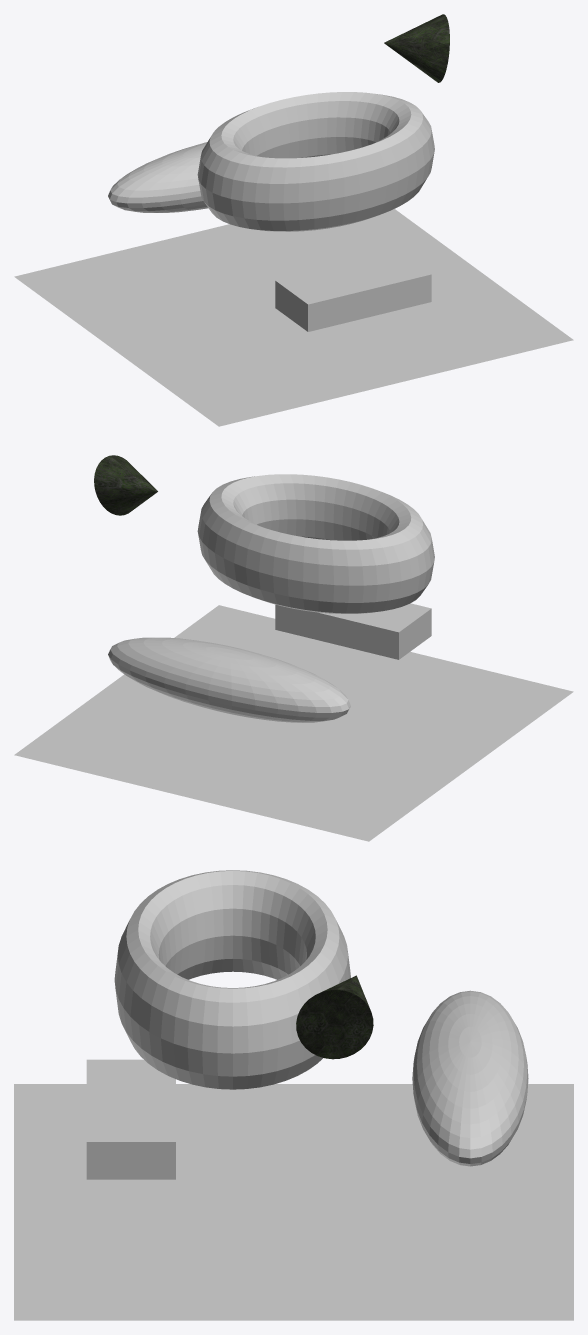
File: rtdlgi.fbx
3 renders of one model, top to bottom at view 1: azimuth 30°, elevation 25°; view 2: azimuth 150°, elevation 25°; view 3: azimuth 270°, elevation 25°, orthographic. The views are drawn at different scales.
Visible parts, largest first — view 1: Plane, Torus, Cube, Sphere, Cone; view 2: Plane, Torus, Sphere, Cube, Cone; view 3: Plane, Torus, Sphere, Cube, Cone.
Part boxes in pixels (x1=…): Plane: x1=14, y1=209, x2=573, y2=426; Torus: x1=197, y1=92, x2=434, y2=231; Cube: x1=275, y1=250, x2=431, y2=331; Sphere: x1=108, y1=142, x2=207, y2=212; Cone: x1=384, y1=14, x2=449, y2=82; Plane: x1=14, y1=605, x2=573, y2=841; Torus: x1=197, y1=474, x2=434, y2=613; Sphere: x1=108, y1=637, x2=350, y2=722; Cube: x1=275, y1=603, x2=431, y2=659; Cone: x1=94, y1=455, x2=157, y2=515; Plane: x1=14, y1=1084, x2=573, y2=1320; Torus: x1=114, y1=870, x2=350, y2=1089; Sphere: x1=412, y1=990, x2=528, y2=1166; Cube: x1=86, y1=1059, x2=175, y2=1179; Cone: x1=296, y1=975, x2=373, y2=1059.
Size of the model in its own units: 200 by 128 by 200.
